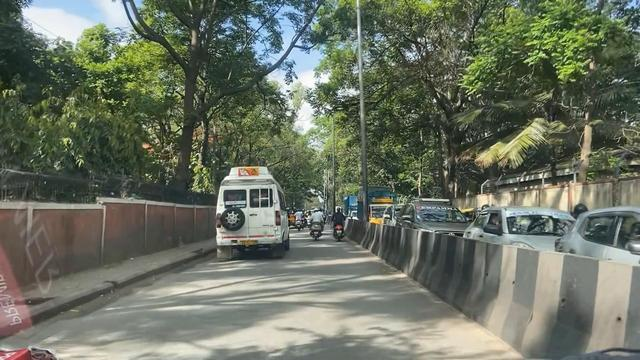HMV: (213, 164, 286, 257)
LMV: (304, 204, 326, 243), (330, 203, 352, 240)
